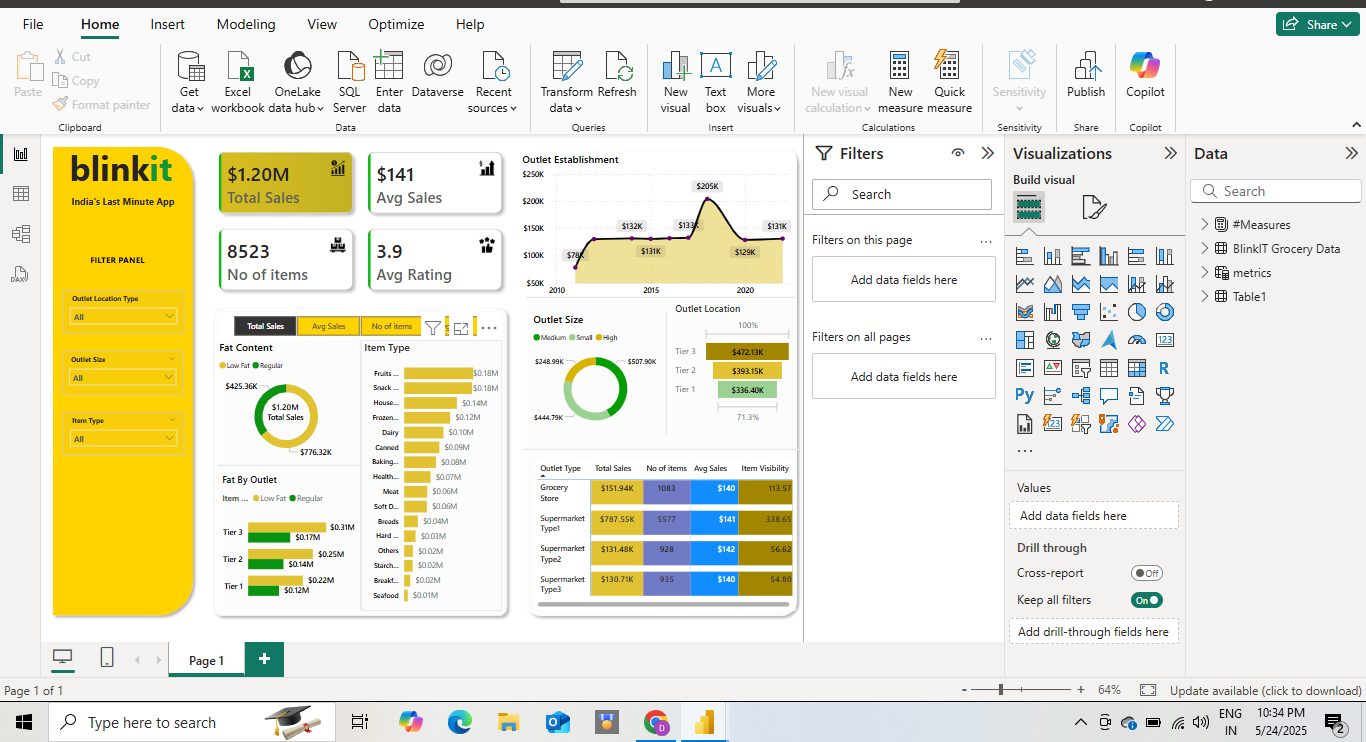

What the dashboard file says about the page in this screenshot:
{"tool":"powerbi","page":{"name":"Page 1","canvas":[1200,800],"ordinal":0},"visuals":[{"type":"shape","box":[9.4,11,239.4,757.5],"z":0},{"type":"textbox","box":[557.5,555.9,228.3,61.4],"z":1000},{"type":"textbox","box":[22,11,192.1,159.1],"z":2000},{"type":"textbox","box":[33.1,91.3,192.1,40.9],"z":3000},{"type":"textbox","box":[279,0,239,474],"z":4000},{"type":"cardVisual","fields":{"Data":["#Measures.Total Sales","#Measures.Avg Sales","#Measures.No of items","#Measures.Avg rating"]},"box":[263,11,480.3,253.5],"z":5000},{"type":"shape","box":[263,264.6,480.3,503.9],"z":6000},{"type":"donutChart","title":" Fat Content","fields":{"Y":["#Measures.Total Sales"],"Category":["BlinkIT Grocery Data.Item Fat Content"]},"box":[275.6,324.4,222,192.1],"z":7000},{"type":"slicer","fields":{"Values":["metrics.metrics"]},"box":[278.7,280.3,445.7,44.1],"z":8000},{"type":"cardVisual","fields":{"Data":["#Measures.Total Sales"]},"box":[335.9,400.5,99.3,75.7],"z":9000},{"type":"clusteredBarChart","title":" Fat By Outlet","fields":{"Y":["#Measures.Total Sales"],"Category":["BlinkIT Grocery Data.Outlet Location Type"],"Series":["BlinkIT Grocery Data.Item Fat Content"]},"box":[280.3,533.9,218.9,217.3],"z":10000},{"type":"shape","box":[278.7,507.1,223.6,29.9],"z":11000},{"type":"shape","box":[490.4,328,28.4,421],"z":12000},{"type":"barChart","title":"  Item Type","fields":{"Y":["#Measures.Total Sales"],"Category":["BlinkIT Grocery Data.Item Type"]},"box":[504.6,324.8,220.8,426],"z":13000},{"type":"shape","box":[752.8,11,447.2,757.5],"z":14000},{"type":"lineChart","title":"Outlet Establishment ","fields":{"Y":["#Measures.Total Sales"],"Category":["BlinkIT Grocery Data.Outlet Establishment Year"]},"box":[752.8,28.3,434.6,236.2],"z":15000},{"type":"shape","box":[763.8,250.4,423.6,14.2],"z":16000},{"type":"donutChart","title":" Outlet Size","fields":{"Y":["#Measures.Total Sales"],"Category":["BlinkIT Grocery Data.Outlet Size"]},"box":[770,279.8,205.5,194.5],"z":17000},{"type":"shape","box":[976.1,280.7,17.3,194],"z":18000},{"type":"funnel","title":" Outlet Location","fields":{"Y":["#Measures.Total Sales"],"Category":["BlinkIT Grocery Data.Outlet Location Type"]},"box":[993.4,264.9,194,195.5],"z":19000},{"type":"shape","box":[758.5,477.8,435.2,39.4],"z":20000},{"type":"pivotTable","fields":{"Rows":["BlinkIT Grocery Data.Outlet Type"],"Values":["#Measures.Total Sales","#Measures.No of items","#Measures.Avg Sales","Sum(BlinkIT Grocery Data.Item Visibility)"]},"box":[775.8,510.9,411.6,239.7],"z":21000},{"type":"slicer","fields":{"Values":["BlinkIT Grocery Data.Outlet Location Type"]},"box":[34.6,245.7,190.6,69.3],"z":21001},{"type":"slicer","fields":{"Values":["BlinkIT Grocery Data.Outlet Size"]},"box":[33.1,341.7,190.6,69.3],"z":21002},{"type":"slicer","fields":{"Values":["BlinkIT Grocery Data.Item Type"]},"box":[34.6,437.8,190.6,69.3],"z":21003},{"type":"textbox","box":[72.4,184.3,113.4,37.8],"z":21004}]}

Visuals, with their boxes on the page's 1200x800 design canvas (x1, y1, x2, y2). These are canvas units, not pixel positions in the 1366x742 screenshot, which may show the page scaled, cropped or inside an application window:
shape: pyautogui.locateOnScreen(9, 11, 249, 768)
textbox: pyautogui.locateOnScreen(558, 556, 786, 617)
textbox: pyautogui.locateOnScreen(22, 11, 214, 170)
textbox: pyautogui.locateOnScreen(33, 91, 225, 132)
textbox: pyautogui.locateOnScreen(279, 0, 518, 474)
cardVisual - #Measures.Total Sales x #Measures.Avg Sales: pyautogui.locateOnScreen(263, 11, 743, 264)
shape: pyautogui.locateOnScreen(263, 265, 743, 768)
" Fat Content" donutChart: pyautogui.locateOnScreen(276, 324, 498, 516)
slicer - metrics.metrics: pyautogui.locateOnScreen(279, 280, 724, 324)
cardVisual - #Measures.Total Sales: pyautogui.locateOnScreen(336, 400, 435, 476)
" Fat By Outlet" clusteredBarChart: pyautogui.locateOnScreen(280, 534, 499, 751)
shape: pyautogui.locateOnScreen(279, 507, 502, 537)
shape: pyautogui.locateOnScreen(490, 328, 519, 749)
"  Item Type" barChart: pyautogui.locateOnScreen(505, 325, 725, 751)
shape: pyautogui.locateOnScreen(753, 11, 1200, 768)
"Outlet Establishment " lineChart: pyautogui.locateOnScreen(753, 28, 1187, 264)
shape: pyautogui.locateOnScreen(764, 250, 1187, 265)
" Outlet Size" donutChart: pyautogui.locateOnScreen(770, 280, 976, 474)
shape: pyautogui.locateOnScreen(976, 281, 993, 475)
" Outlet Location" funnel: pyautogui.locateOnScreen(993, 265, 1187, 460)
shape: pyautogui.locateOnScreen(758, 478, 1194, 517)
pivotTable - BlinkIT Grocery Data.Outlet Type x #Measures.Total Sales: pyautogui.locateOnScreen(776, 511, 1187, 751)
slicer - BlinkIT Grocery Data.Outlet Location Type: pyautogui.locateOnScreen(35, 246, 225, 315)
slicer - BlinkIT Grocery Data.Outlet Size: pyautogui.locateOnScreen(33, 342, 224, 411)
slicer - BlinkIT Grocery Data.Item Type: pyautogui.locateOnScreen(35, 438, 225, 507)
textbox: pyautogui.locateOnScreen(72, 184, 186, 222)
